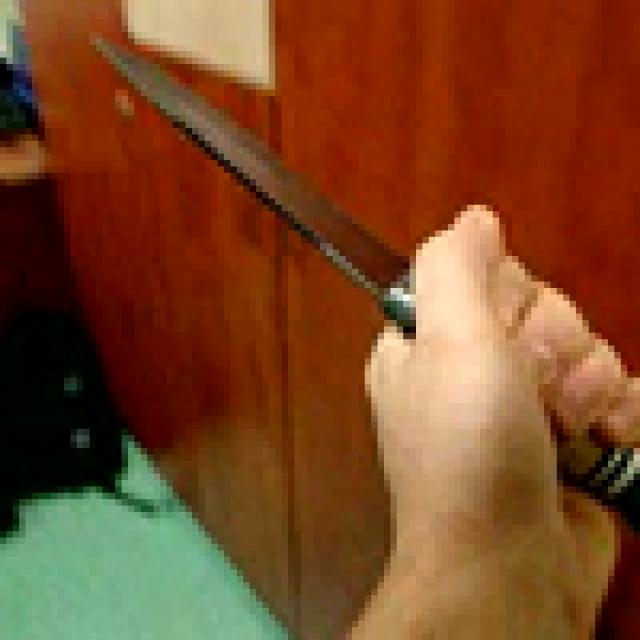Knife: (96, 32, 640, 518)
